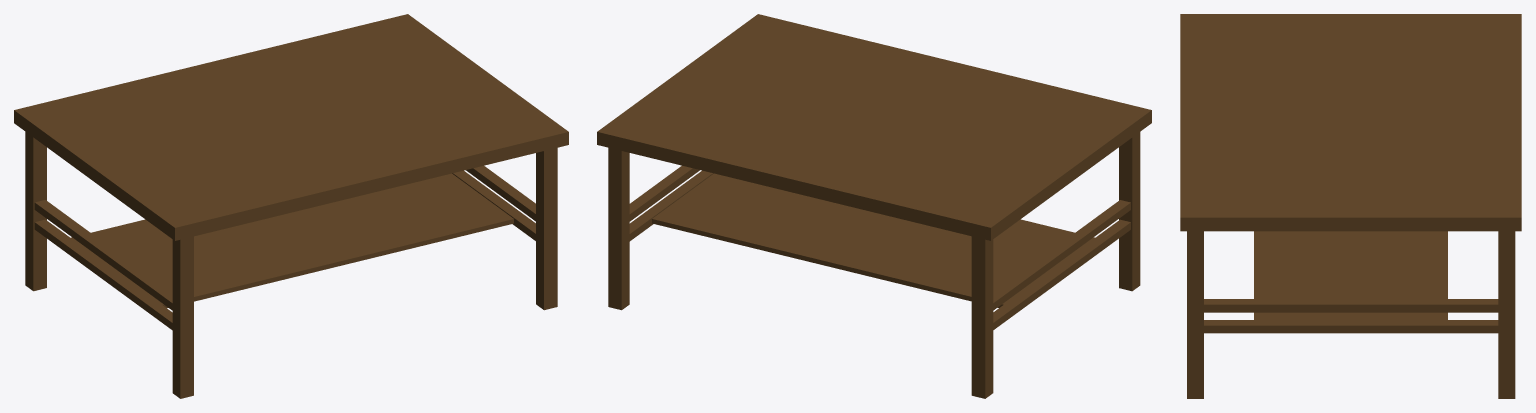
The model's file is table.fbx.
3 views of the same model, side by side, from view 1: azimuth 30°, elevation 25°; view 2: azimuth 150°, elevation 25°; view 3: azimuth 270°, elevation 25° (orthographic). The views are drawn at different scales.
Parts seen in each view (by area): view 1: Table1; view 2: Table1; view 3: Table1.
Boxes of the visible parts, x1,y1,x2,y2 form: Table1: [14, 14, 568, 398]; Table1: [597, 14, 1151, 398]; Table1: [1180, 14, 1521, 398].
Size of the model in its own units: 25.14 by 10.7 by 17.8.
